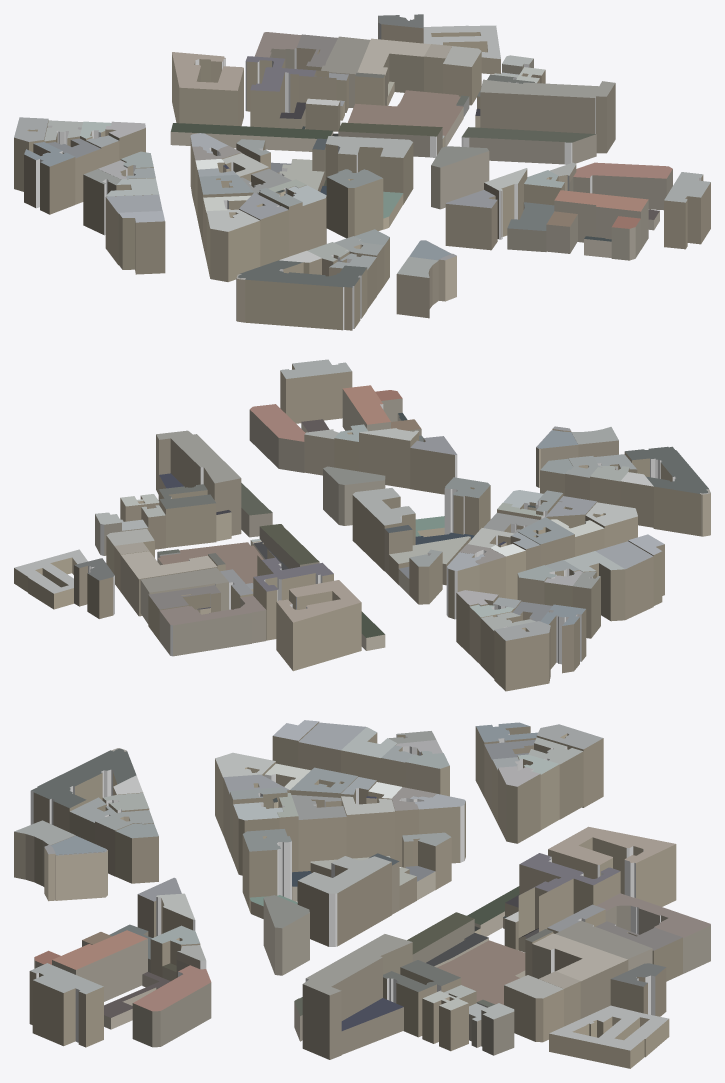
The picture shows the model from 3 angles, top to bottom: view 1: azimuth 30°, elevation 25°; view 2: azimuth 150°, elevation 25°; view 3: azimuth 270°, elevation 25°; orthographic projection. The views are drawn at different scales.
Parts seen in each view (by area): view 1: tuile; view 2: tuile; view 3: tuile.
Part boxes in pixels (<box>): tuile: <box>14,14,710,330</box>; tuile: <box>14,359,710,691</box>; tuile: <box>14,720,710,1068</box>.
Size of the model in its own units: 277 by 31.61 by 282.
